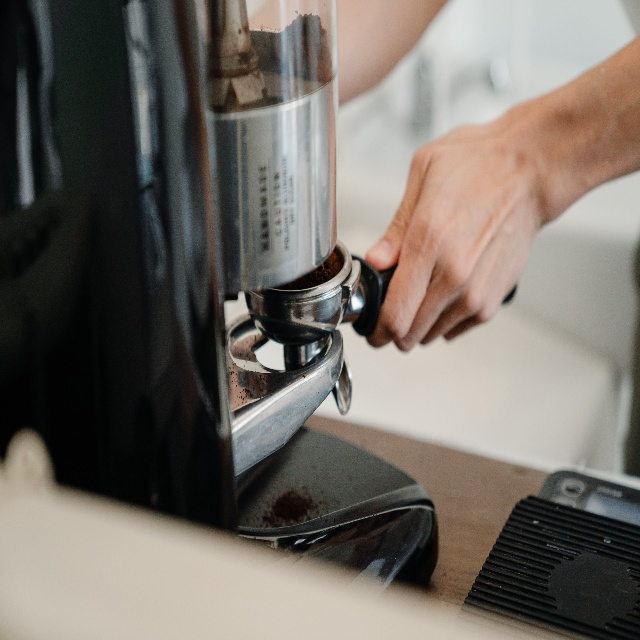Sin_guantes: (363, 124, 537, 351)
